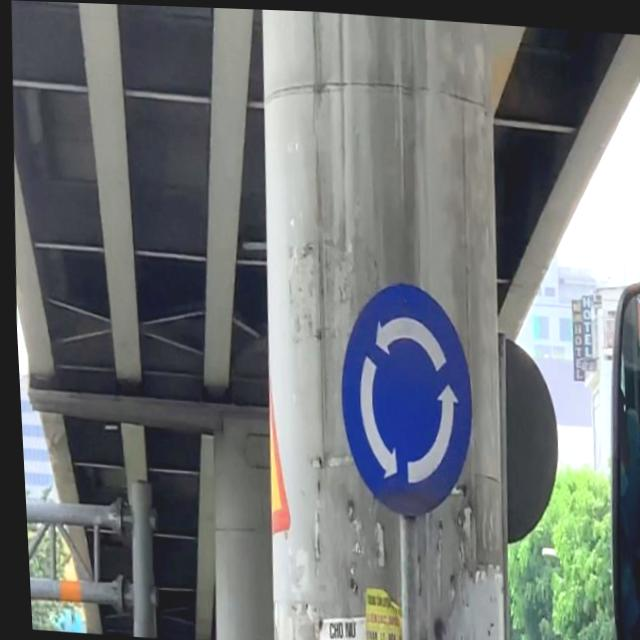Noi giao nhau chay theo vong xuyen: (327, 270, 478, 523)
